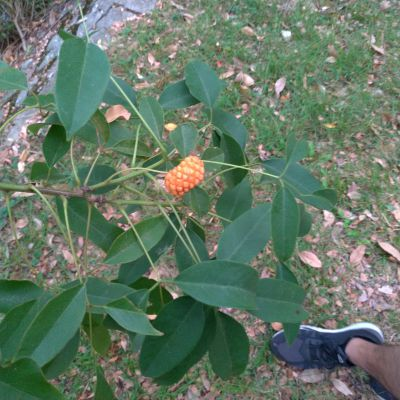eggs: (163, 155, 209, 197)
